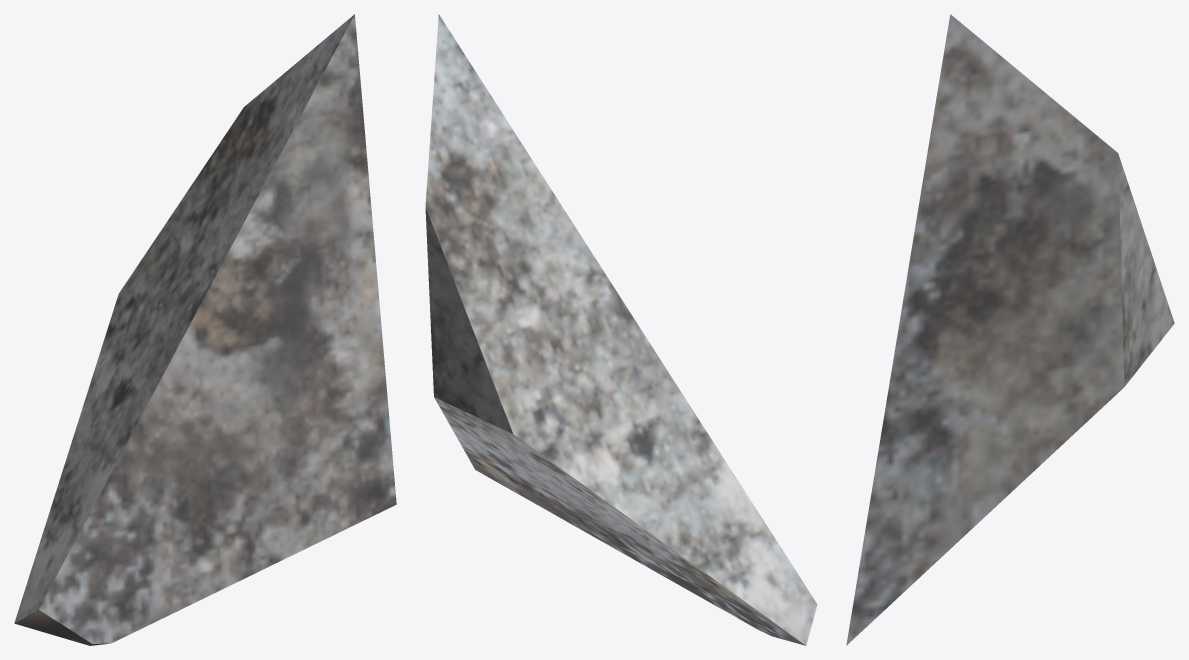
Rendered from Asteroid_Medium_001_02_001_03_007.fbx.
3 views of the same model, side by side, from view 1: azimuth 30°, elevation 25°; view 2: azimuth 150°, elevation 25°; view 3: azimuth 270°, elevation 25° (orthographic). The views are drawn at different scales.
Parts seen in each view (by area): view 1: Asteroid_Medium_001_02_001_03_007; view 2: Asteroid_Medium_001_02_001_03_007; view 3: Asteroid_Medium_001_02_001_03_007.
Part boxes in pixels (<box>): Asteroid_Medium_001_02_001_03_007: <box>14,14,396,645</box>; Asteroid_Medium_001_02_001_03_007: <box>425,14,817,645</box>; Asteroid_Medium_001_02_001_03_007: <box>846,14,1174,645</box>.
Size of the model in its own units: 4.58 by 6.8 by 2.75.
